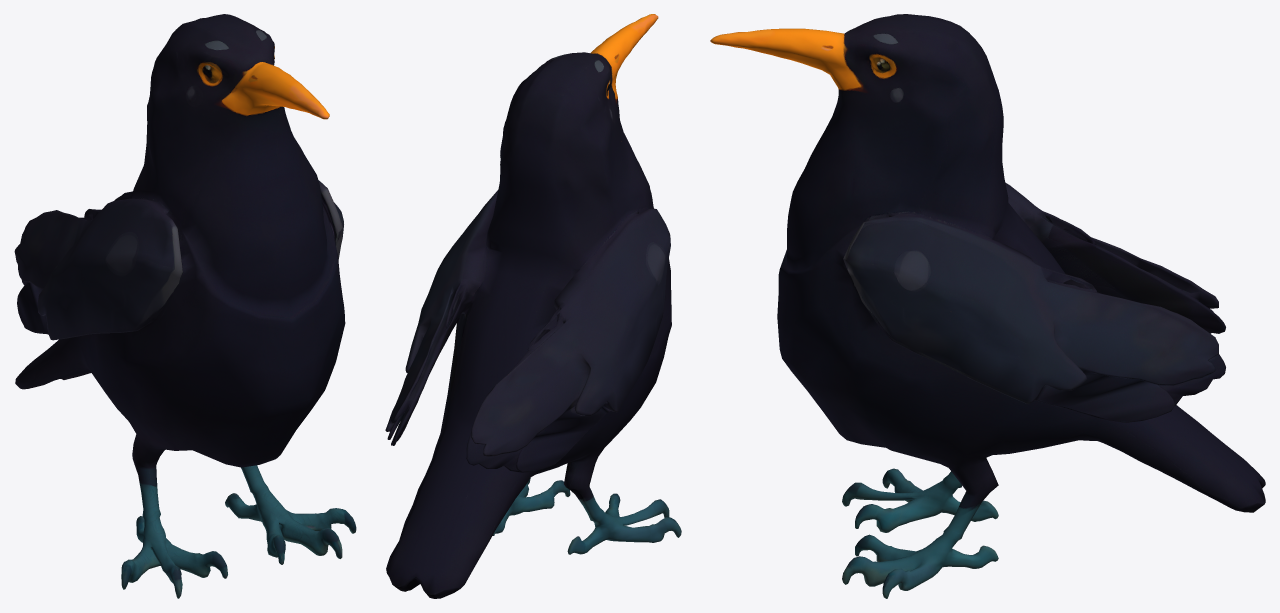
The model's file is npc_crow_flapping.glb.
3 renders of one model, left to right at view 1: azimuth 30°, elevation 25°; view 2: azimuth 150°, elevation 25°; view 3: azimuth 270°, elevation 25°, orthographic. The views are drawn at different scales.
Size of the model in its own units: 0.8728 by 1.91 by 1.82.
1 material, 1 textured.
